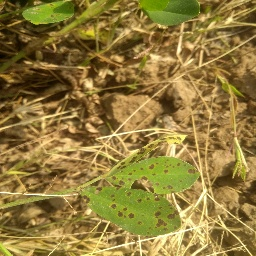GroundNut_Leaf: (80, 187, 182, 238), (106, 154, 203, 184), (136, 1, 202, 26), (20, 3, 76, 24)
